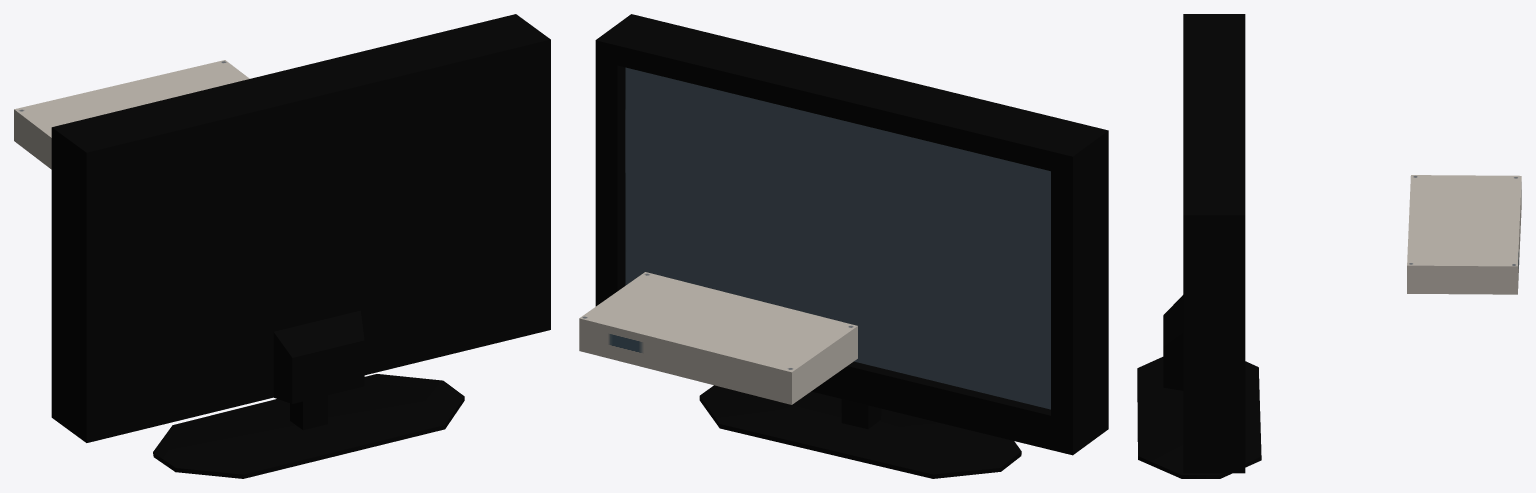
The model's file is cablebox.fbx.
3 views of the same model, side by side, from view 1: azimuth 30°, elevation 25°; view 2: azimuth 150°, elevation 25°; view 3: azimuth 270°, elevation 25° (orthographic). The views are drawn at different scales.
Visible parts, largest first — view 1: pCube1, pCube2; view 2: pCube1, pCube2; view 3: pCube1, pCube2.
Boxes of the visible parts, x1=… form: pCube1: x1=51, y1=14, x2=550, y2=478; pCube2: x1=14, y1=60, x2=249, y2=169; pCube1: x1=595, y1=14, x2=1108, y2=478; pCube2: x1=579, y1=272, x2=857, y2=404; pCube1: x1=1137, y1=14, x2=1261, y2=478; pCube2: x1=1407, y1=175, x2=1521, y2=294.
Bounding box in the file's own units: 136 × 110 × 94.96.
Materials: 2 (2 with a texture image).
